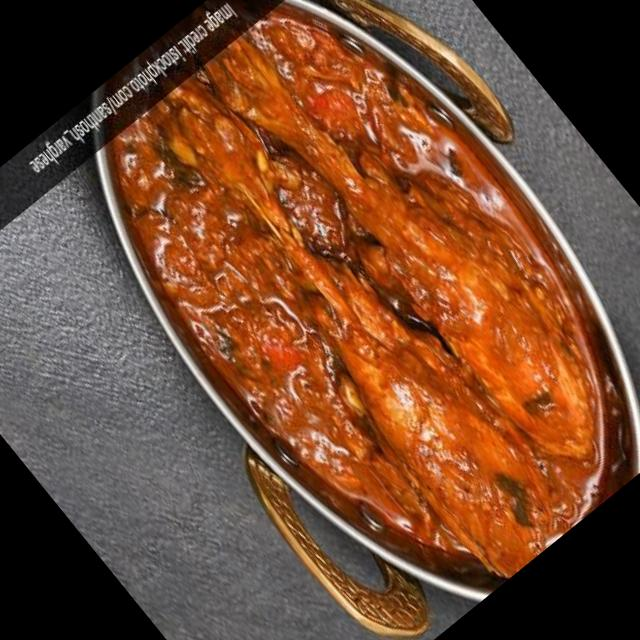chicken: (41, 0, 640, 603)
